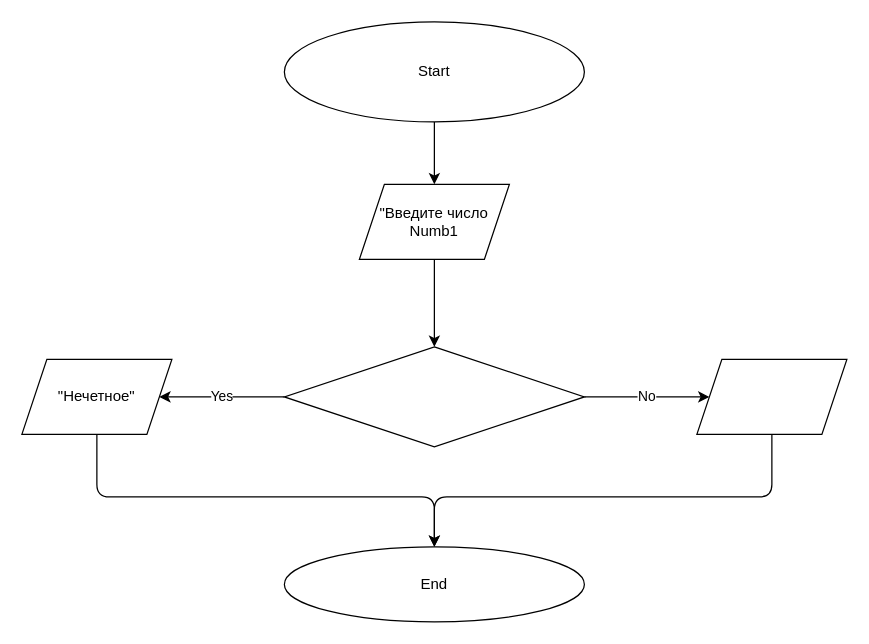
The diagram is 869 pixels wide and 644 high, and some of its shapes have lost their labels. Each missing label, with the centre of its shape:
"Четное": (771,396)
If Numb1 % 2 != 0: (433,396)
